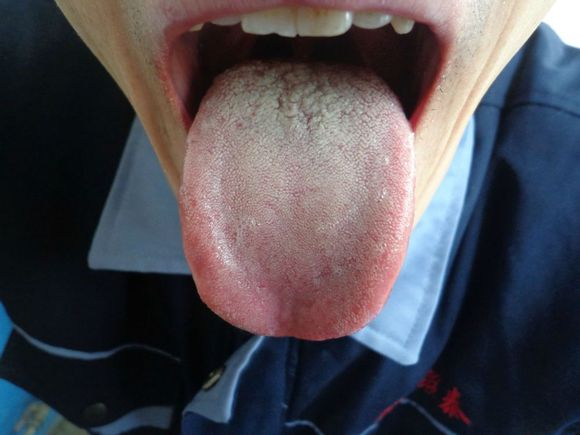baitaishe: (179, 55, 414, 341)
hongshe: (179, 55, 414, 341)
liewenshe: (246, 65, 371, 134)
